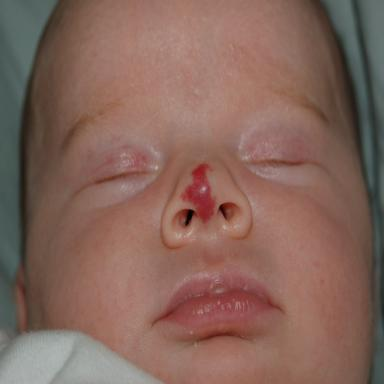Hemangiome: (181, 164, 217, 222)
